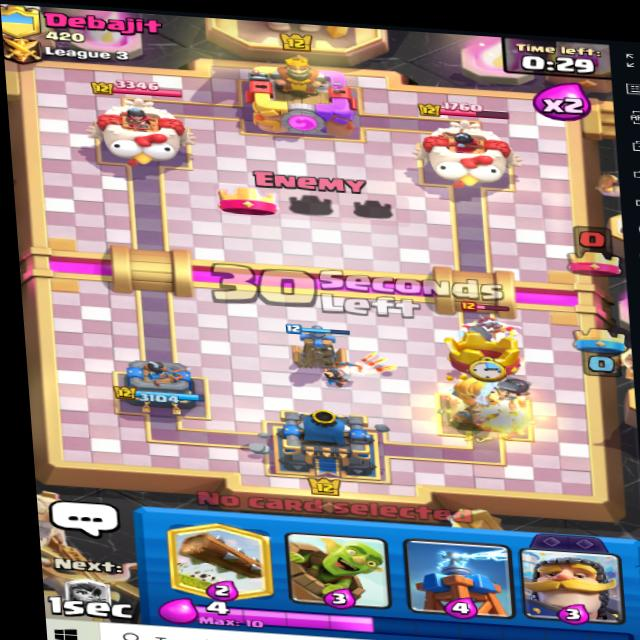electro-wizard: (459, 305, 532, 352)
